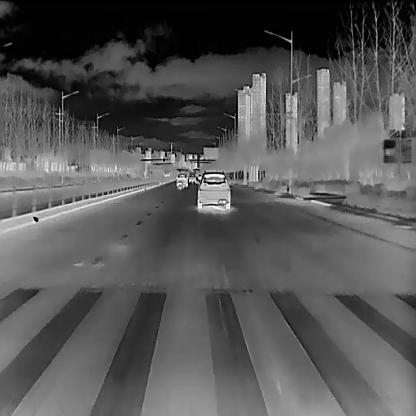bus: (162, 169, 170, 176)
car: (196, 170, 230, 209), (174, 172, 188, 188), (188, 172, 195, 182), (197, 173, 202, 180)
